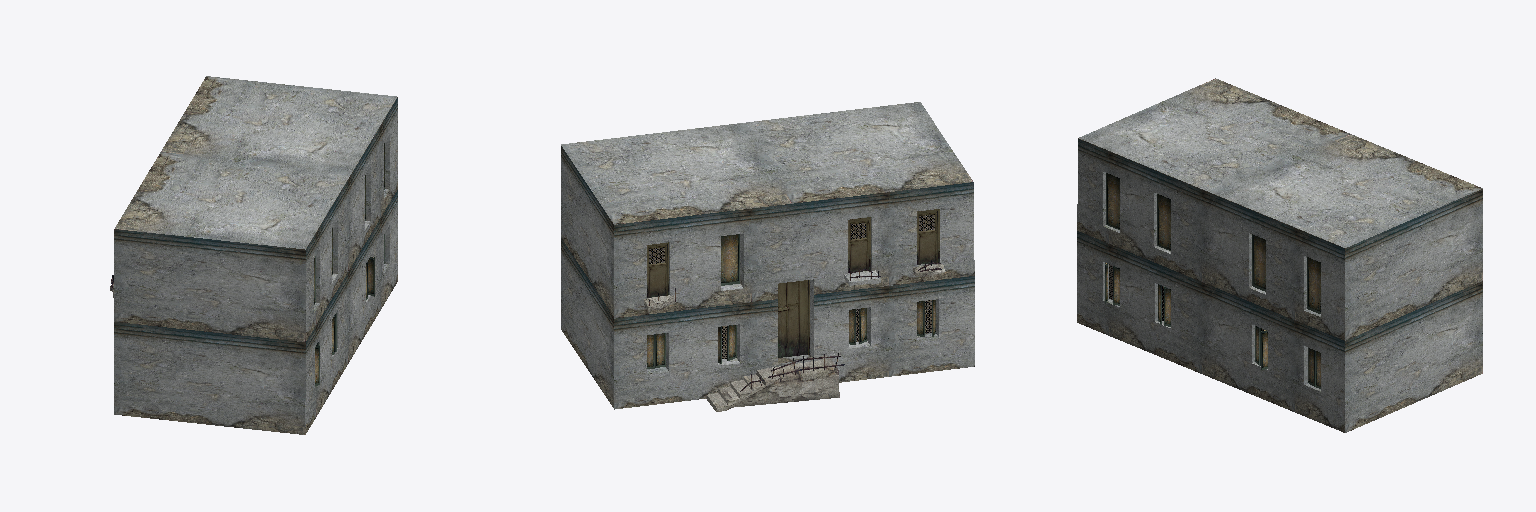
3 views of the same model, side by side, from view 1: azimuth 30°, elevation 25°; view 2: azimuth 150°, elevation 25°; view 3: azimuth 270°, elevation 25° (orthographic).
Size of the model in its own units: 322 by 164 by 325.
6 materials, 6 textured.